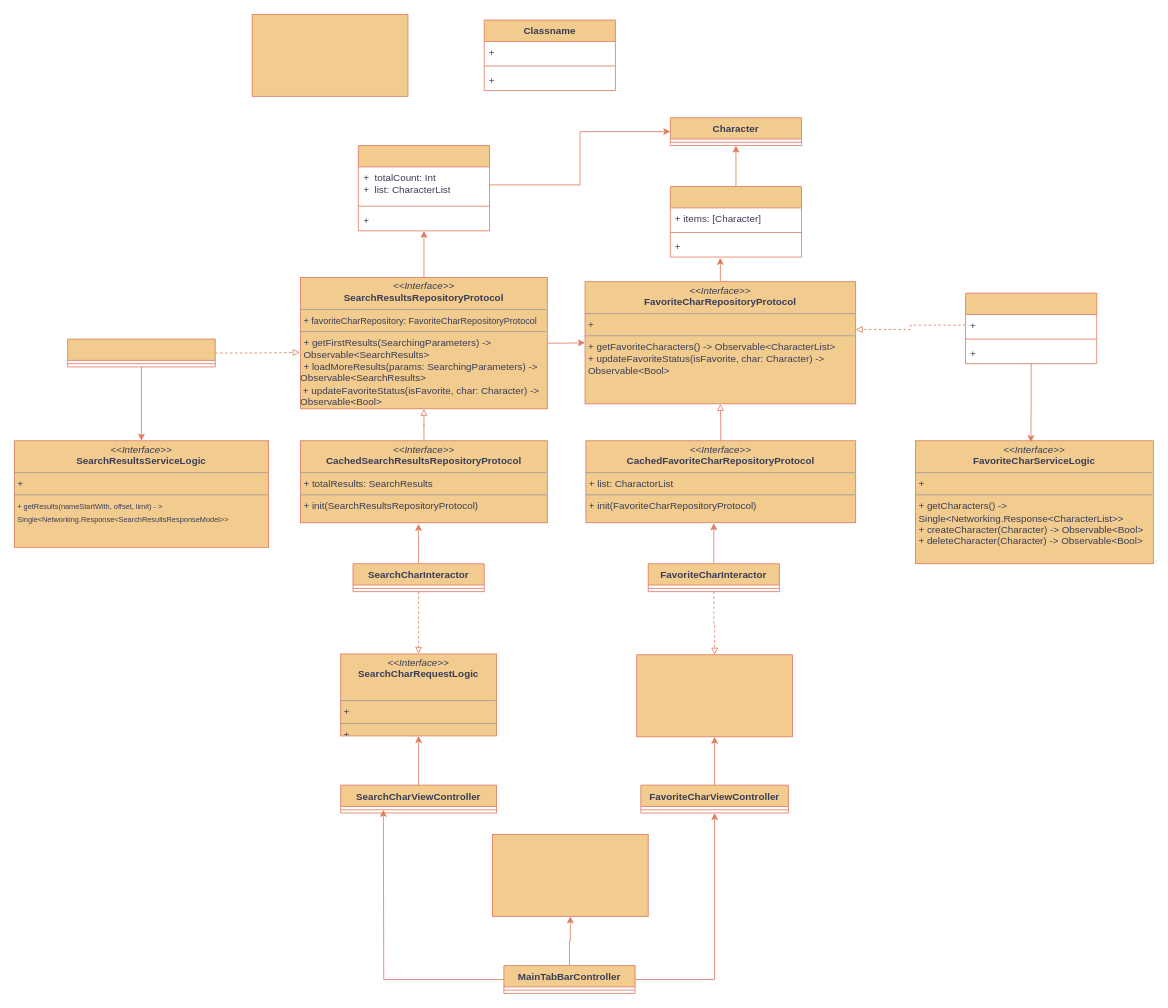
Some shapes in this 1168 by 1008 pixel diagram are drawn without their labels. Here are the shapes that lost their labels. From the top down, the box of each, then its label:
(251, 14, 408, 96): <<Interface>> Interface + +
(358, 145, 490, 231): SearchResults
(670, 186, 802, 257): CharacterList
(965, 292, 1097, 364): FavoriteCharRepository
(67, 338, 215, 367): SearchResultsRepository
(636, 654, 793, 737): <<Interface>> FavoriteCharRequestLogic + +
(492, 834, 648, 916): <<Interface>> MainTabBarRequestLogic + +
